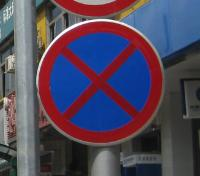No Parking: (41, 21, 162, 143)
